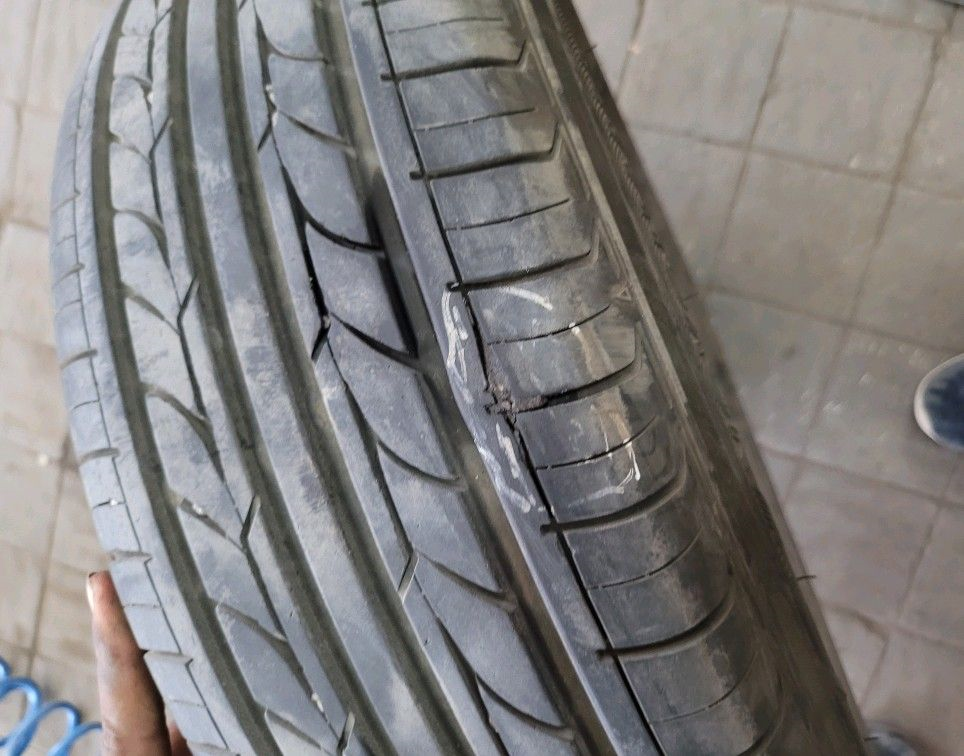tr: (472, 308, 544, 456)
